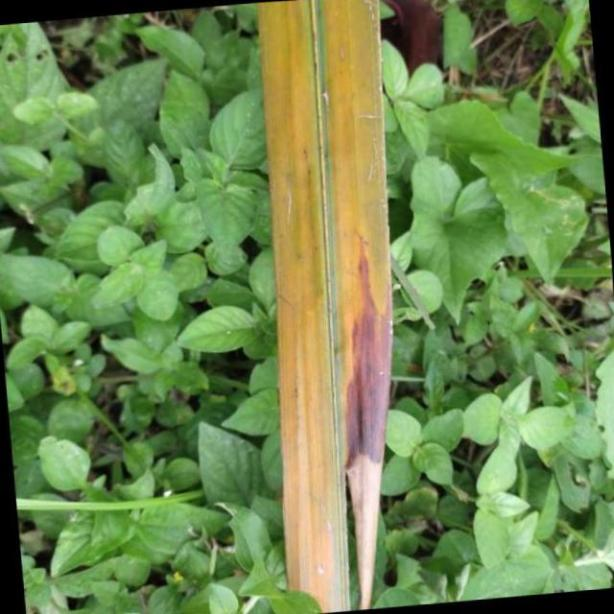Megnesium: (254, 0, 390, 614)
